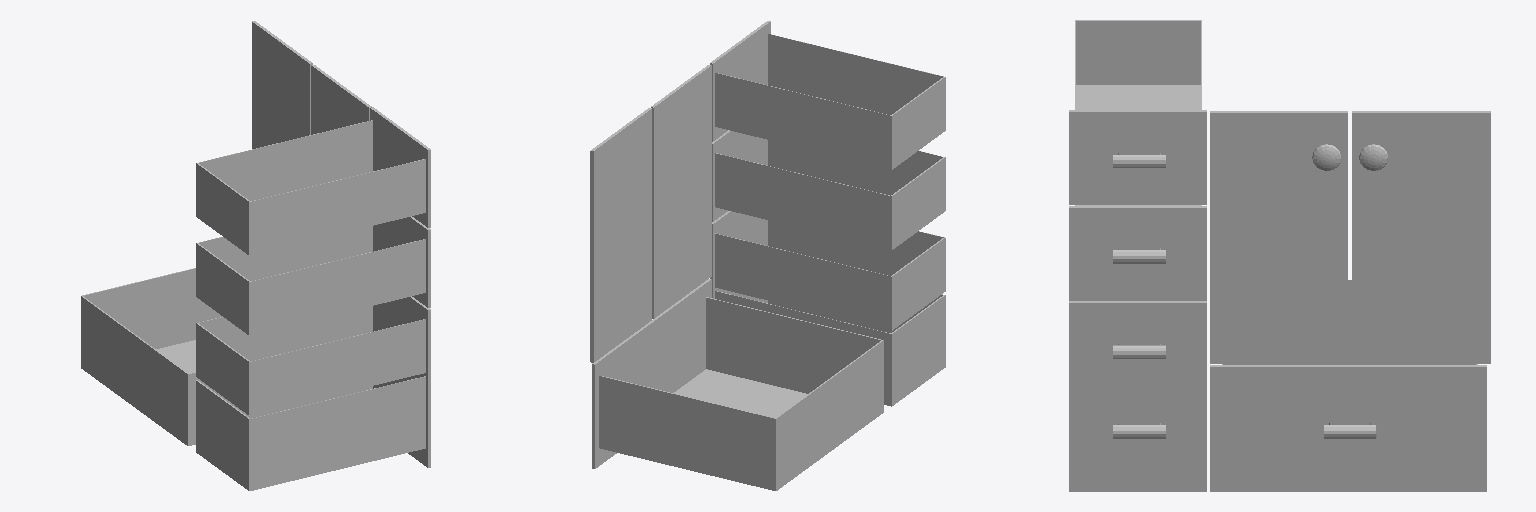
URDF robot description (my_urdf):
<?xml version='1.0' encoding='utf-8'?>
<robot name="my_urdf"><link name="base_link"><visual><origin xyz="0 0 0" rpy="0.0 0.0 0.0" /><material name="white"><color rgba="0.8 0.8 0.8 1" /></material><geometry><mesh filename="../meshes/cabinet.obj" scale="1 1 1" /></geometry></visual><collision><origin xyz="0 0 0" rpy="0.0 0.0 0.0" /><geometry><mesh filename="../meshes/cabinet.obj" scale="1 1 1" /></geometry></collision><inertial><mass value="1" /><inertia ixx="1e-4" ixy="0" ixz="0" iyy="1e-4" iyz="0" izz="1e-4" /></inertial></link><link name="drawer0"><visual><origin xyz="0 0 0" rpy="0 0 0" /><material name="white"><color rgba="0.8 0.8 0.8 1" /></material><geometry><mesh filename="../meshes/parts/drawer.obj" scale="1 1.3133333333333332 0.98" /></geometry></visual><collision><origin xyz="0 0 0" rpy="0 0 0" /><geometry><mesh filename="../meshes/parts/drawer.obj" scale="1 1.3133333333333332 0.98" /></geometry></collision><inertial><mass value="0.2" /><inertia ixx="1e-4" ixy="0" ixz="0" iyy="1e-4" iyz="0" izz="1e-4" /></inertial></link><joint name="drawer0_to_base_link" type="prismatic"><axis xyz="1 0 0" /><limit effort="5" lower="0" upper="0.4" velocity="2.283" /><origin xyz="0 0.0 0.75" rpy="0.0 0.0 0.0" /><parent link="base_link" /><child link="drawer0" /></joint><link name="drawer1"><visual><origin xyz="0 0 0" rpy="0 0 0" /><material name="white"><color rgba="0.8 0.8 0.8 1" /></material><geometry><mesh filename="../meshes/parts/drawer.obj" scale="1 1.3133333333333332 0.98" /></geometry></visual><collision><origin xyz="0 0 0" rpy="0 0 0" /><geometry><mesh filename="../meshes/parts/drawer.obj" scale="1 1.3133333333333332 0.98" /></geometry></collision><inertial><mass value="0.2" /><inertia ixx="1e-4" ixy="0" ixz="0" iyy="1e-4" iyz="0" izz="1e-4" /></inertial></link><joint name="drawer1_to_base_link" type="prismatic"><axis xyz="1 0 0" /><limit effort="5" lower="0" upper="0.4" velocity="2.283" /><origin xyz="0 0.0 0.25" rpy="0.0 0.0 0.0" /><parent link="base_link" /><child link="drawer1" /></joint><link name="drawer2"><visual><origin xyz="0 0 0" rpy="0 0 0" /><material name="white"><color rgba="0.8 0.8 0.8 1" /></material><geometry><mesh filename="../meshes/parts/drawer.obj" scale="1 1.3133333333333332 1.3133333333333332" /></geometry></visual><collision><origin xyz="0 0 0" rpy="0 0 0" /><geometry><mesh filename="../meshes/parts/drawer.obj" scale="1 1.3133333333333332 1.3133333333333332" /></geometry></collision><inertial><mass value="0.2" /><inertia ixx="1e-4" ixy="0" ixz="0" iyy="1e-4" iyz="0" izz="1e-4" /></inertial></link><joint name="drawer2_to_base_link" type="prismatic"><axis xyz="1 0 0" /><limit effort="5" lower="0" upper="0.4" velocity="2.283" /><origin xyz="0 0.0 0.0" rpy="0.0 0.0 0.0" /><parent link="base_link" /><child link="drawer2" /></joint><link name="drawer3"><visual><origin xyz="0 0 0" rpy="0 0 0" /><material name="white"><color rgba="0.8 0.8 0.8 1" /></material><geometry><mesh filename="../meshes/parts/drawer.obj" scale="1 1.3133333333333332 0.98" /></geometry></visual><collision><origin xyz="0 0 0" rpy="0 0 0" /><geometry><mesh filename="../meshes/parts/drawer.obj" scale="1 1.3133333333333332 0.98" /></geometry></collision><inertial><mass value="0.2" /><inertia ixx="1e-4" ixy="0" ixz="0" iyy="1e-4" iyz="0" izz="1e-4" /></inertial></link><joint name="drawer3_to_base_link" type="prismatic"><axis xyz="1 0 0" /><limit effort="5" lower="0" upper="0.4" velocity="2.283" /><origin xyz="0 0.0 0.5" rpy="0.0 0.0 0.0" /><parent link="base_link" /><child link="drawer3" /></joint><link name="drawer4"><visual><origin xyz="0 0 0" rpy="0 0 0" /><material name="white"><color rgba="0.8 0.8 0.8 1" /></material><geometry><mesh filename="../meshes/parts/drawer.obj" scale="1 2.6466666666666665 1.3133333333333332" /></geometry></visual><collision><origin xyz="0 0 0" rpy="0 0 0" /><geometry><mesh filename="../meshes/parts/drawer.obj" scale="1 2.6466666666666665 1.3133333333333332" /></geometry></collision><inertial><mass value="0.2" /><inertia ixx="1e-4" ixy="0" ixz="0" iyy="1e-4" iyz="0" izz="1e-4" /></inertial></link><joint name="drawer4_to_base_link" type="prismatic"><axis xyz="1 0 0" /><limit effort="5" lower="0" upper="0.4" velocity="2.283" /><origin xyz="0 0.3333333333333333 0.0" rpy="0.0 0.0 0.0" /><parent link="base_link" /><child link="drawer4" /></joint><link name="doorL5"><visual><origin xyz="0 0 0" rpy="0 0 0" /><material name="white"><color rgba="0.8 0.8 0.8 1" /></material><geometry><mesh filename="../meshes/parts/doorL.obj" scale="1 1.3233333333333333 2.6566666666666667" /></geometry></visual><collision><origin xyz="0 0 0" rpy="0 0 0" /><geometry><mesh filename="../meshes/parts/doorL.obj" scale="1 1.3233333333333333 2.6566666666666667" /></geometry></collision><inertial><mass value="0.2" /><inertia ixx="1e-4" ixy="0" ixz="0" iyy="1e-4" iyz="0" izz="1e-4" /></inertial></link><joint name="doorL5_to_base_link" type="revolute"><axis xyz="0 0 1" /><limit effort="5" lower="-1.57" upper="0" velocity="2.283" /><origin xyz="0 0.3333333333333333 0.3333333333333333" rpy="0.0 0.0 0.0" /><parent link="base_link" /><child link="doorL5" /></joint><link name="doorR6"><visual><origin xyz="0 0 0" rpy="0 0 0" /><material name="white"><color rgba="0.8 0.8 0.8 1" /></material><geometry><mesh filename="../meshes/parts/doorR.obj" scale="1 1.3233333333333333 2.6566666666666667" /></geometry></visual><collision><origin xyz="0 0 0" rpy="0 0 0" /><geometry><mesh filename="../meshes/parts/doorR.obj" scale="1 1.3233333333333333 2.6566666666666667" /></geometry></collision><inertial><mass value="0.2" /><inertia ixx="1e-4" ixy="0" ixz="0" iyy="1e-4" iyz="0" izz="1e-4" /></inertial></link><joint name="doorR6_to_base_link" type="revolute"><axis xyz="0 0 1" /><limit effort="5" lower="0" upper="1.57" velocity="2.283" /><origin xyz="0 1.0 0.3333333333333333" rpy="-0.0 -0.0 -0.0" /><parent link="base_link" /><child link="doorR6" /></joint><link name="handle7"><visual><origin xyz="0 0 0" rpy="0 0 0" /><material name="white"><color rgba="0.8 0.8 0.8 1" /></material><geometry><mesh filename="../meshes/parts/handle.obj" scale="1 1 1" /></geometry></visual><collision><origin xyz="0 0 0" rpy="0 0 0" /><geometry><mesh filename="../meshes/parts/handle.obj" scale="1 1 1" /></geometry></collision><inertial><mass value="0.2" /><inertia ixx="1e-4" ixy="0" ixz="0" iyy="1e-4" iyz="0" izz="1e-4" /></inertial></link><joint name="handle7_to_drawer0" type="fixed"><axis xyz="0 0 1" /><limit effort="5" lower="0" upper="1.57" velocity="2.283" /><origin xyz="0 0.16666666666666666 0.125" rpy="1.5707963267948963 0.0 0.0" /><parent link="drawer0" /><child link="handle7" /></joint><link name="handle8"><visual><origin xyz="0 0 0" rpy="0 0 0" /><material name="white"><color rgba="0.8 0.8 0.8 1" /></material><geometry><mesh filename="../meshes/parts/handle.obj" scale="1 1 1" /></geometry></visual><collision><origin xyz="0 0 0" rpy="0 0 0" /><geometry><mesh filename="../meshes/parts/handle.obj" scale="1 1 1" /></geometry></collision><inertial><mass value="0.2" /><inertia ixx="1e-4" ixy="0" ixz="0" iyy="1e-4" iyz="0" izz="1e-4" /></inertial></link><joint name="handle8_to_drawer1" type="fixed"><axis xyz="0 0 1" /><limit effort="5" lower="0" upper="1.57" velocity="2.283" /><origin xyz="0 0.16666666666666666 0.125" rpy="1.5707963267948963 0.0 0.0" /><parent link="drawer1" /><child link="handle8" /></joint><link name="handle9"><visual><origin xyz="0 0 0" rpy="0 0 0" /><material name="white"><color rgba="0.8 0.8 0.8 1" /></material><geometry><mesh filename="../meshes/parts/handle.obj" scale="1 1 1" /></geometry></visual><collision><origin xyz="0 0 0" rpy="0 0 0" /><geometry><mesh filename="../meshes/parts/handle.obj" scale="1 1 1" /></geometry></collision><inertial><mass value="0.2" /><inertia ixx="1e-4" ixy="0" ixz="0" iyy="1e-4" iyz="0" izz="1e-4" /></inertial></link><joint name="handle9_to_drawer2" type="fixed"><axis xyz="0 0 1" /><limit effort="5" lower="0" upper="1.57" velocity="2.283" /><origin xyz="0 0.16666666666666666 0.16666666666666666" rpy="1.5707963267948963 0.0 0.0" /><parent link="drawer2" /><child link="handle9" /></joint><link name="handle10"><visual><origin xyz="0 0 0" rpy="0 0 0" /><material name="white"><color rgba="0.8 0.8 0.8 1" /></material><geometry><mesh filename="../meshes/parts/handle.obj" scale="1 1 1" /></geometry></visual><collision><origin xyz="0 0 0" rpy="0 0 0" /><geometry><mesh filename="../meshes/parts/handle.obj" scale="1 1 1" /></geometry></collision><inertial><mass value="0.2" /><inertia ixx="1e-4" ixy="0" ixz="0" iyy="1e-4" iyz="0" izz="1e-4" /></inertial></link><joint name="handle10_to_drawer3" type="fixed"><axis xyz="0 0 1" /><limit effort="5" lower="0" upper="1.57" velocity="2.283" /><origin xyz="0 0.16666666666666666 0.125" rpy="1.5707963267948963 0.0 0.0" /><parent link="drawer3" /><child link="handle10" /></joint><link name="handle11"><visual><origin xyz="0 0 0" rpy="0 0 0" /><material name="white"><color rgba="0.8 0.8 0.8 1" /></material><geometry><mesh filename="../meshes/parts/handle.obj" scale="1 1 1" /></geometry></visual><collision><origin xyz="0 0 0" rpy="0 0 0" /><geometry><mesh filename="../meshes/parts/handle.obj" scale="1 1 1" /></geometry></collision><inertial><mass value="0.2" /><inertia ixx="1e-4" ixy="0" ixz="0" iyy="1e-4" iyz="0" izz="1e-4" /></inertial></link><joint name="handle11_to_drawer4" type="fixed"><axis xyz="0 0 1" /><limit effort="5" lower="0" upper="1.57" velocity="2.283" /><origin xyz="0 0.3333333333333333 0.16666666666666666" rpy="1.5707963267948963 0.0 0.0" /><parent link="drawer4" /><child link="handle11" /></joint><link name="knob12"><visual><origin xyz="0 0 0" rpy="0 0 0" /><material name="white"><color rgba="0.8 0.8 0.8 1" /></material><geometry><mesh filename="../meshes/parts/knob.obj" scale="1 1 1" /></geometry></visual><collision><origin xyz="0 0 0" rpy="0 0 0" /><geometry><mesh filename="../meshes/parts/knob.obj" scale="1 1 1" /></geometry></collision><inertial><mass value="0.2" /><inertia ixx="1e-4" ixy="0" ixz="0" iyy="1e-4" iyz="0" izz="1e-4" /></inertial></link><joint name="knob12_to_doorL5" type="fixed"><axis xyz="1 0 0" /><limit effort="5" lower="0" upper="1.57" velocity="2.283" /><origin xyz="0 0.2777777777777778 0.5555555555555556" rpy="0.0 0.0 0.0" /><parent link="doorL5" /><child link="knob12" /></joint><link name="knob13"><visual><origin xyz="0 0 0" rpy="0 0 0" /><material name="white"><color rgba="0.8 0.8 0.8 1" /></material><geometry><mesh filename="../meshes/parts/knob.obj" scale="1 1 1" /></geometry></visual><collision><origin xyz="0 0 0" rpy="0 0 0" /><geometry><mesh filename="../meshes/parts/knob.obj" scale="1 1 1" /></geometry></collision><inertial><mass value="0.2" /><inertia ixx="1e-4" ixy="0" ixz="0" iyy="1e-4" iyz="0" izz="1e-4" /></inertial></link><joint name="knob13_to_doorR6" type="fixed"><axis xyz="1 0 0" /><limit effort="5" lower="0" upper="1.57" velocity="2.283" /><origin xyz="0 -0.2777777777777778 0.5555555555555556" rpy="0.0 0.0 0.0" /><parent link="doorR6" /><child link="knob13" /></joint></robot>

--- Render facts (derived) ---
3 views of the same robot in one strip: view 1: azimuth 30°, elevation 25°; view 2: azimuth 150°, elevation 25°; view 3: azimuth 270°, elevation 25° (orthographic).
Model my_urdf with 15 links and 14 joints (2 revolute, 5 prismatic, 7 fixed), rooted at base_link, posed all joints at 0.
Links seen in each view (by area): view 1: drawer0, drawer3, drawer1, drawer2, drawer4, doorR6, doorL5; view 2: drawer4, drawer0, drawer3, drawer1, doorR6, doorL5, drawer2; view 3: drawer4, doorR6, doorL5, drawer0, drawer2, drawer3, drawer1, handle9, handle10, handle11, handle8, handle7 (+2 smaller).
Link boxes in pixels (x1,y1,x2,y2): drawer0: (196,107,430,255); drawer3: (196,216,430,335); drawer1: (196,296,430,415); drawer2: (196,324,430,490); drawer4: (81,268,222,445); doorR6: (252,21,312,148); doorL5: (311,65,371,134); drawer4: (592,279,883,490); drawer0: (710,21,945,169); drawer3: (712,130,945,249); drawer1: (710,211,945,330); doorR6: (590,108,651,362); doorL5: (651,65,711,318); drawer2: (712,240,945,406); drawer4: (1210,280,1486,491); doorR6: (1352,111,1490,363); doorL5: (1210,111,1347,363); drawer0: (1069,20,1206,204); drawer2: (1069,367,1206,491); drawer3: (1069,205,1206,300); drawer1: (1069,301,1206,395); handle9: (1113,423,1165,438); handle10: (1113,248,1165,263); handle11: (1324,423,1376,438); handle8: (1113,344,1165,358); handle7: (1113,153,1165,167).
Size in the robot's own frame: 0.6304 by 1 by 0.993 metres.
Meshes: 6 distinct files referenced, 14 mesh visuals loaded (5 OBJ); not drawn: 1 (reference not matched to a file when rendering).